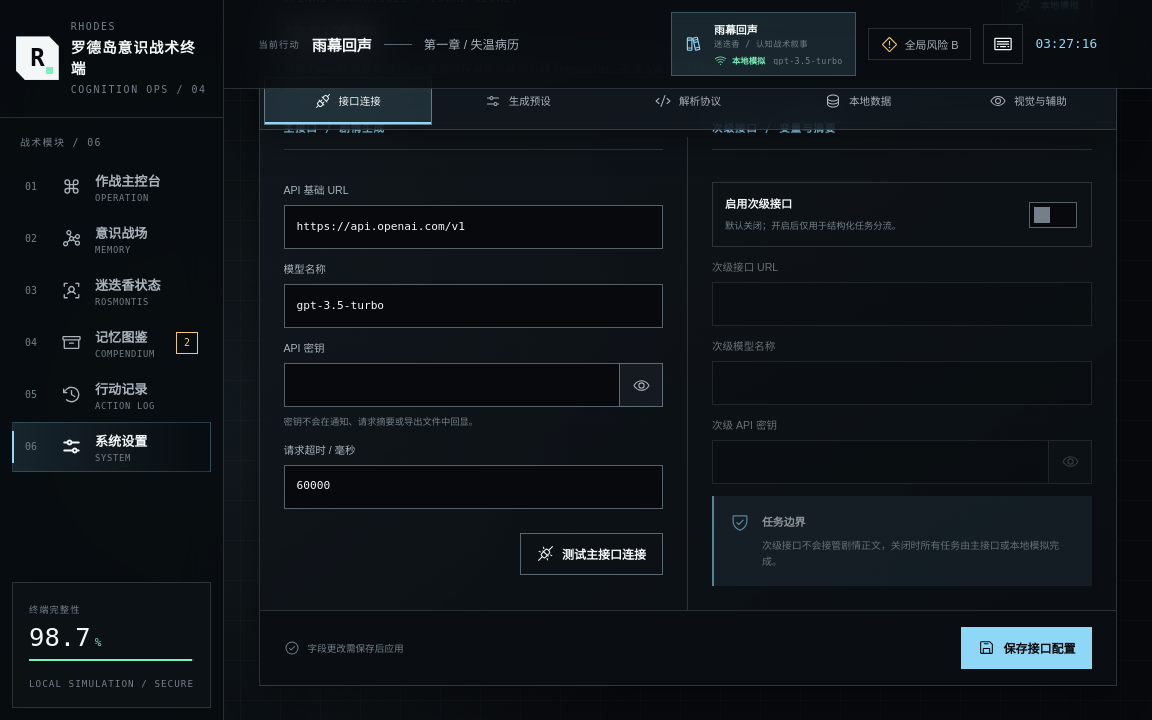
连接测试使用内部通知，失败信息不回显 API 密钥
(page scrolled)
Expected: the tab "接口连接" is shown, [264,77,432,125]
Type "sk-sensitive-value" into the password field labelled "API 密钥".
click(451, 385); type("sk-sensitive-value")  # box [284,363,619,407]
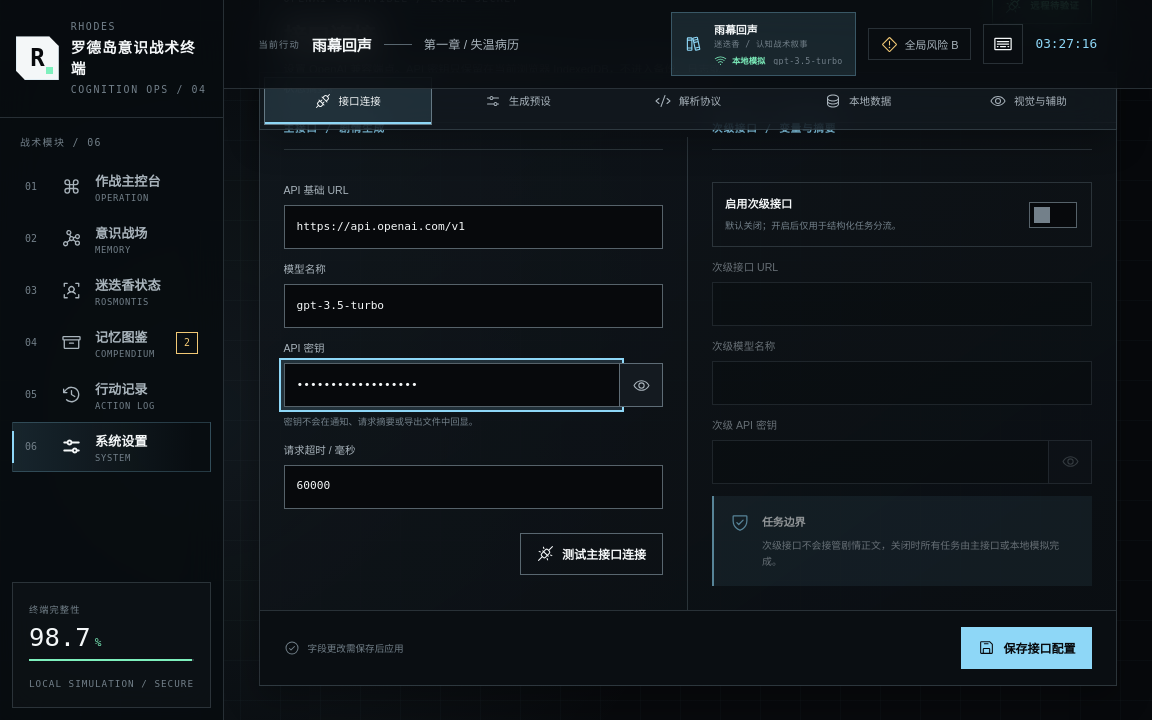
Click the button "测试主接口连接".
click(592, 554)  # box [520,533,663,575]
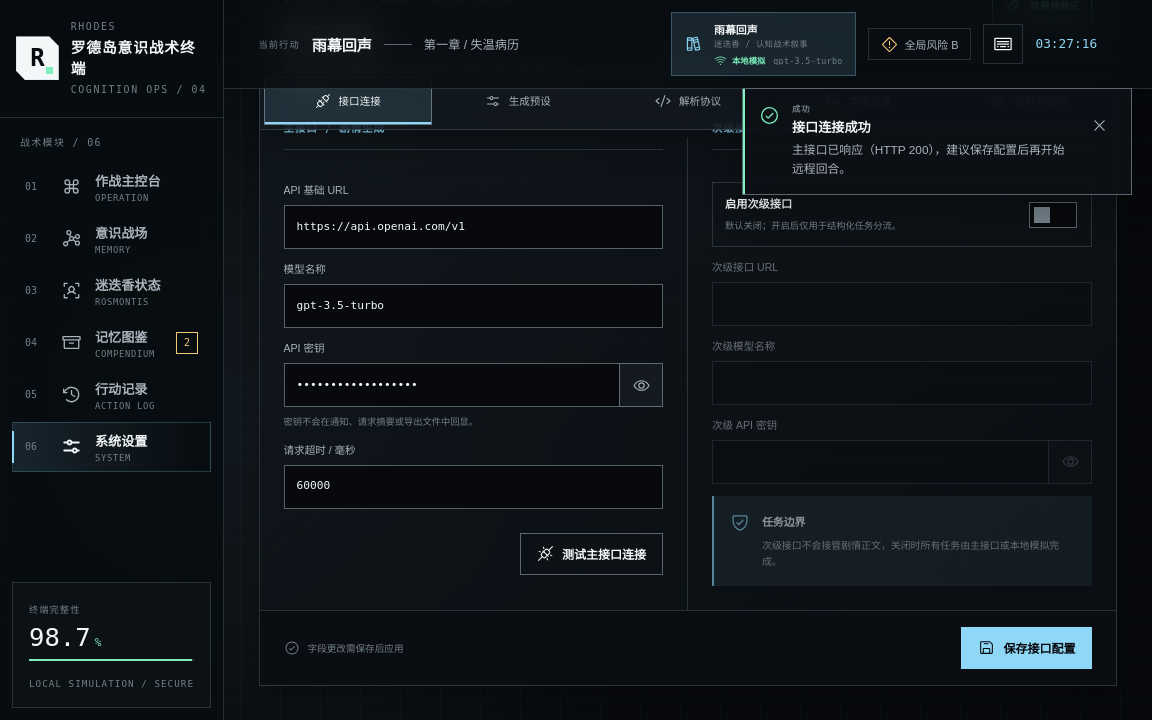
Result: the text "接口连接成功" is shown at [792,120,871,135]
Click the button "测试主接口连接".
click(592, 554)  # box [520,533,663,575]
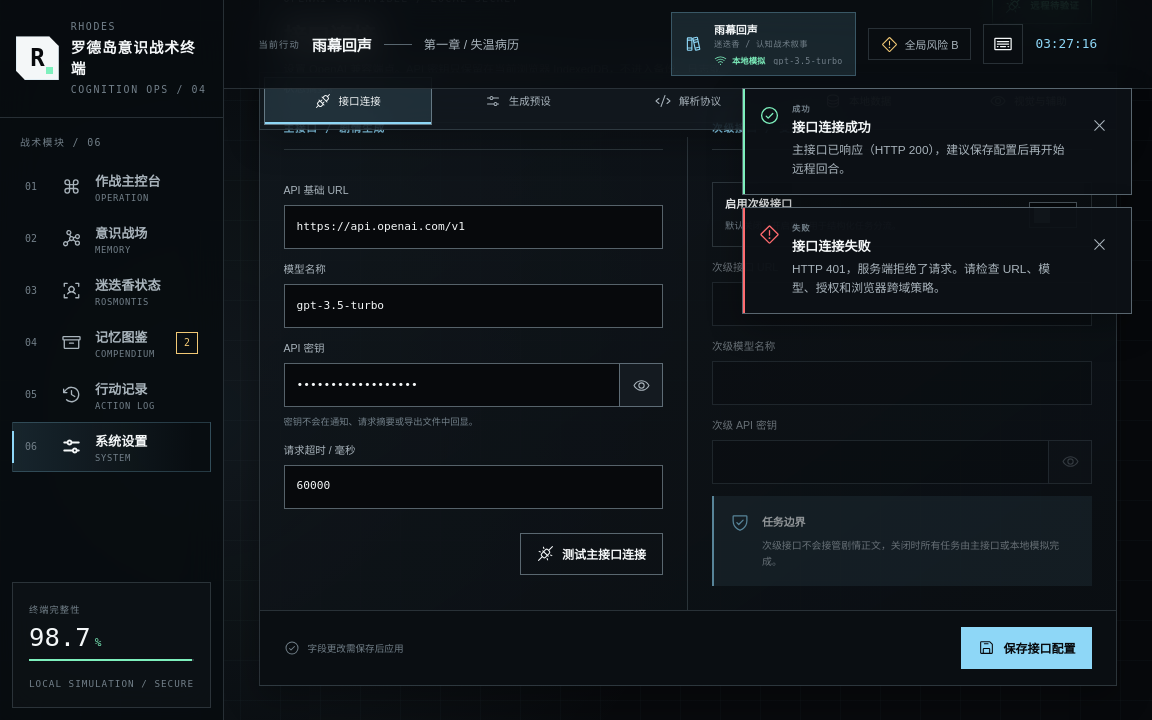
Result: the text "接口连接失败" is shown at [792,239,871,254]
Result: the text "HTTP 401" is shown at [792,262,1050,295]
